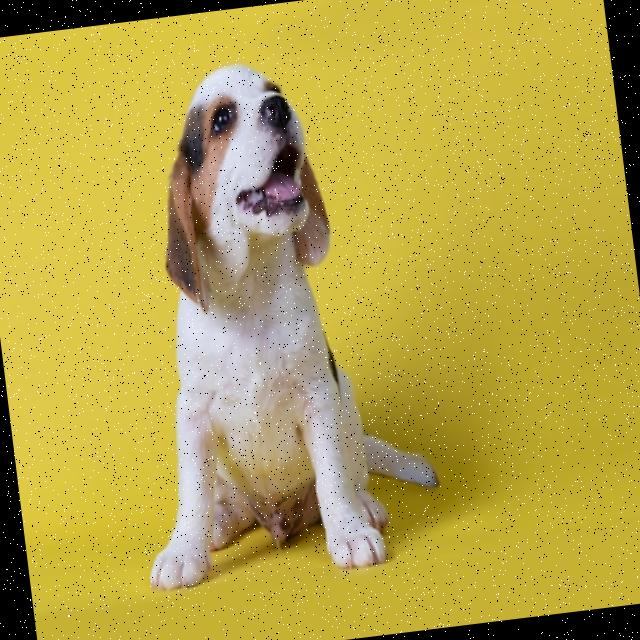Dog: (89, 43, 448, 595)
